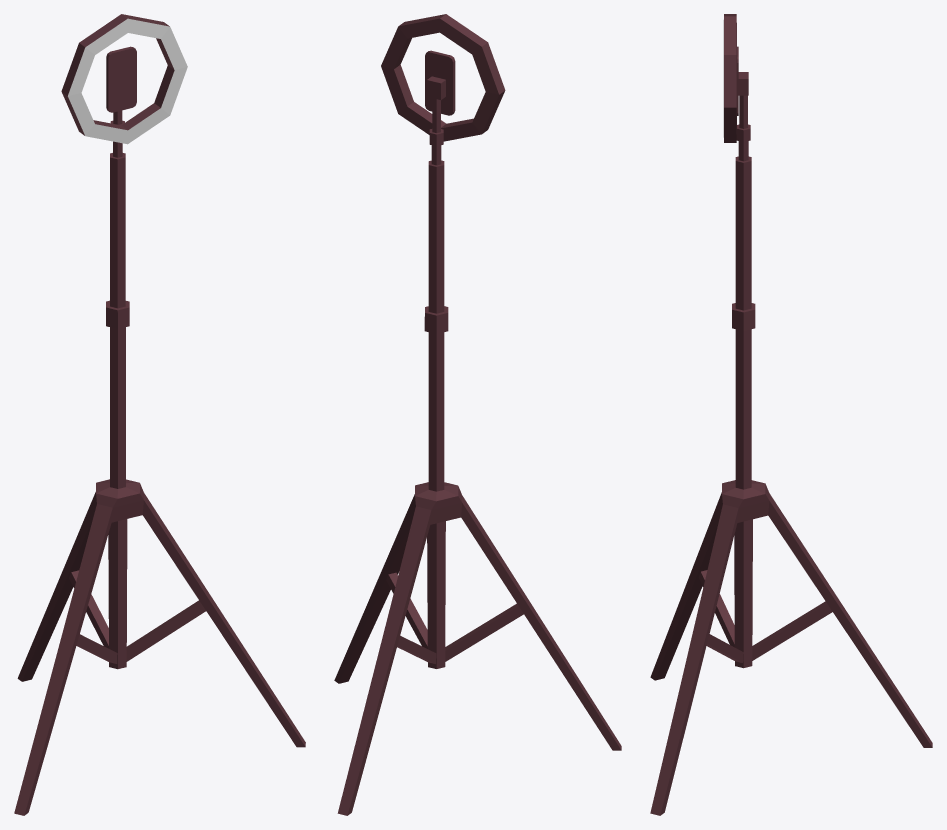
Rendered from light-ring-stand.fbx.
3 renders of one model, left to right at view 1: azimuth 30°, elevation 25°; view 2: azimuth 150°, elevation 25°; view 3: azimuth 270°, elevation 25°, orthographic.
Visible parts, largest first — view 1: light-ring-stand; view 2: light-ring-stand; view 3: light-ring-stand.
Boxes of the visible parts, left/top/right/bottom form: light-ring-stand: left=14, top=14, right=305, bottom=815; light-ring-stand: left=334, top=14, right=621, bottom=815; light-ring-stand: left=650, top=14, right=932, bottom=815.
Bounding box in the file's own units: 0.7689 × 1.85 × 0.6505.
